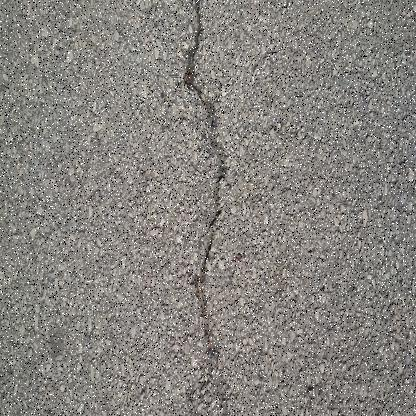Cracks: (176, 0, 231, 376)
